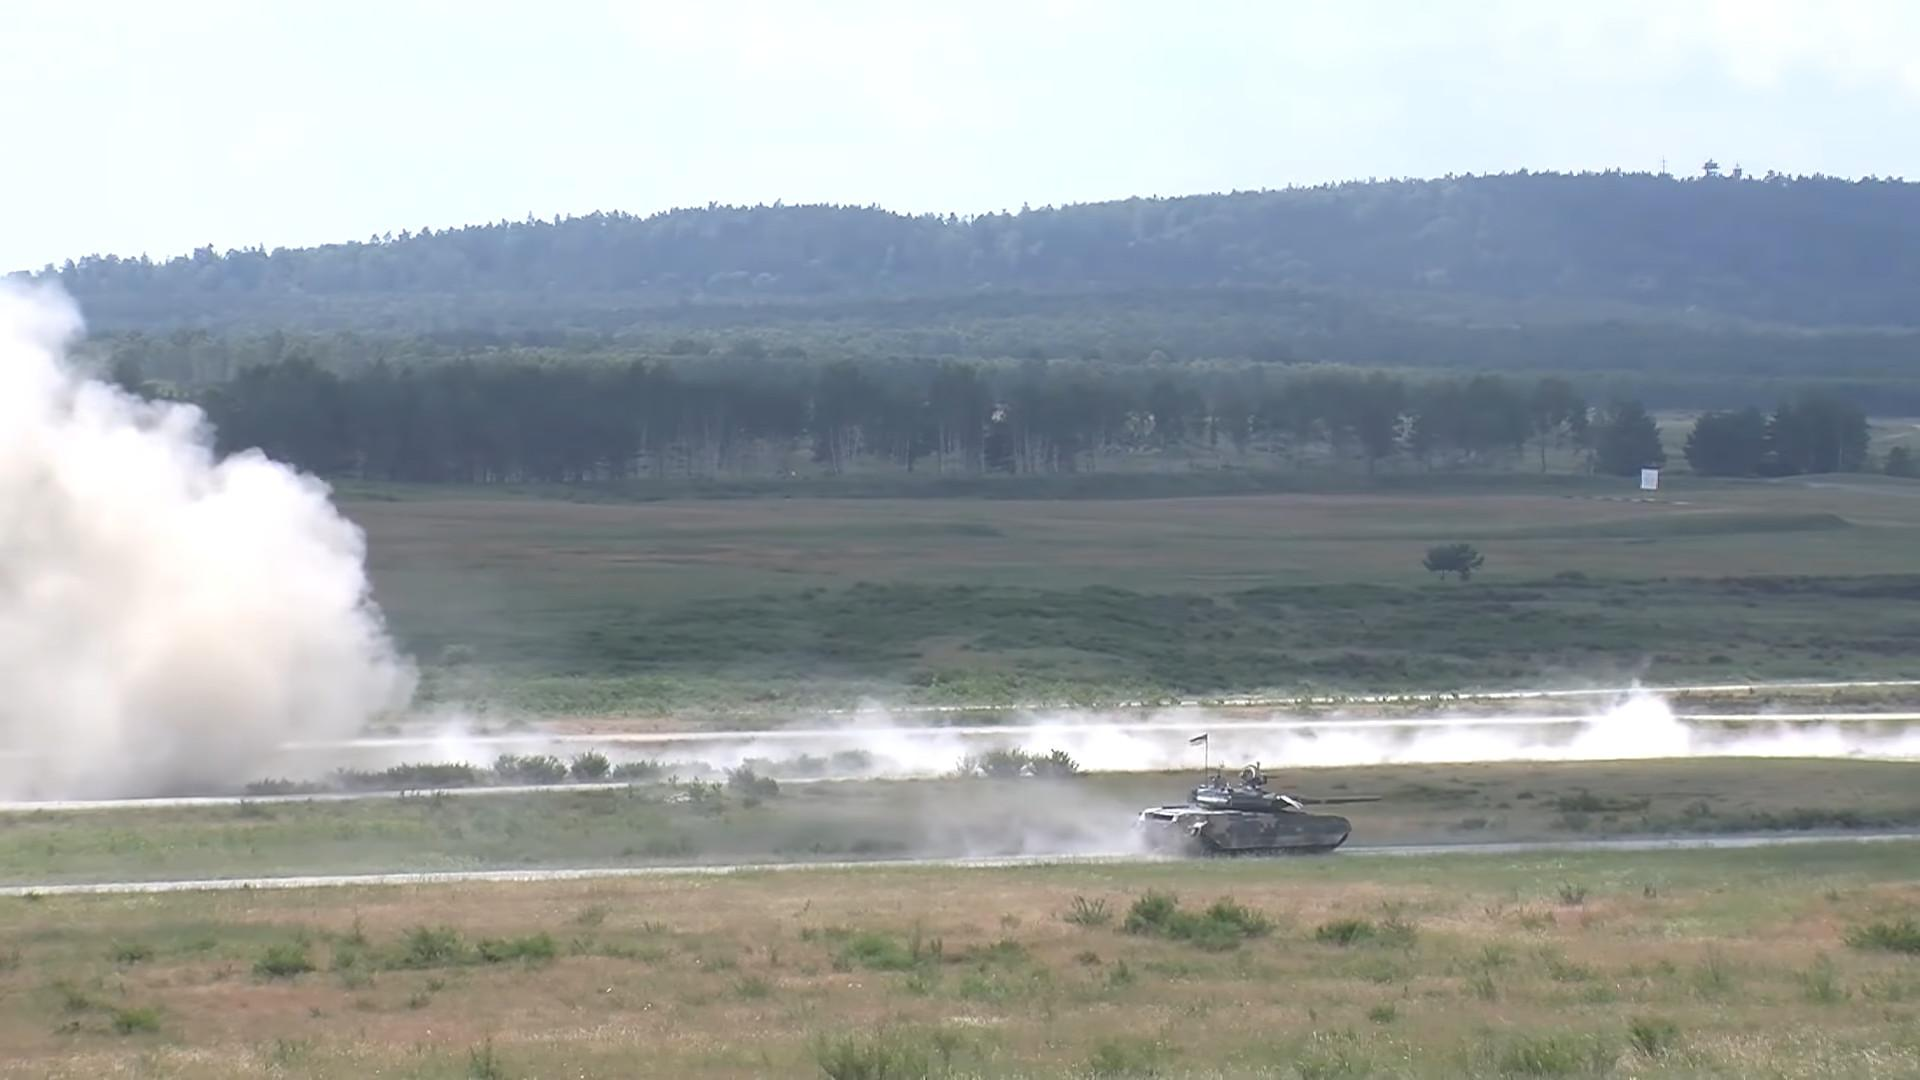tank: (1127, 769, 1375, 852)
